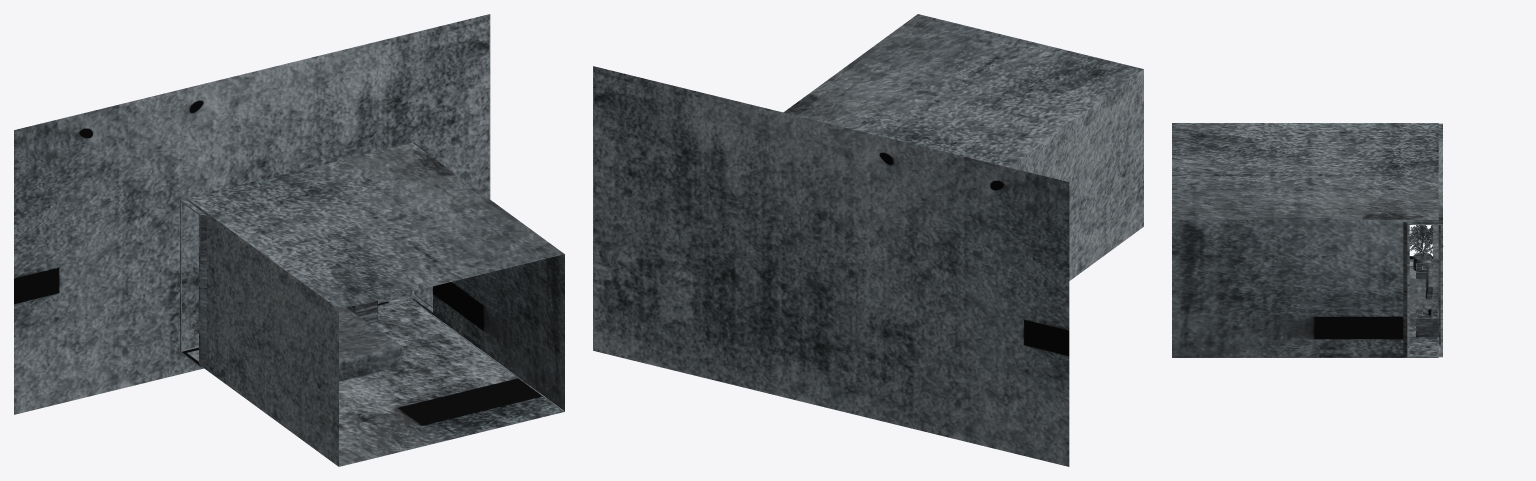
File: bedroom_3.obj
The picture shows the model from 3 angles, left to right: view 1: azimuth 30°, elevation 25°; view 2: azimuth 150°, elevation 25°; view 3: azimuth 270°, elevation 25°; orthographic projection. The views are drawn at different scales.
Size of the model in its own units: 115 by 65.54 by 83.31.
